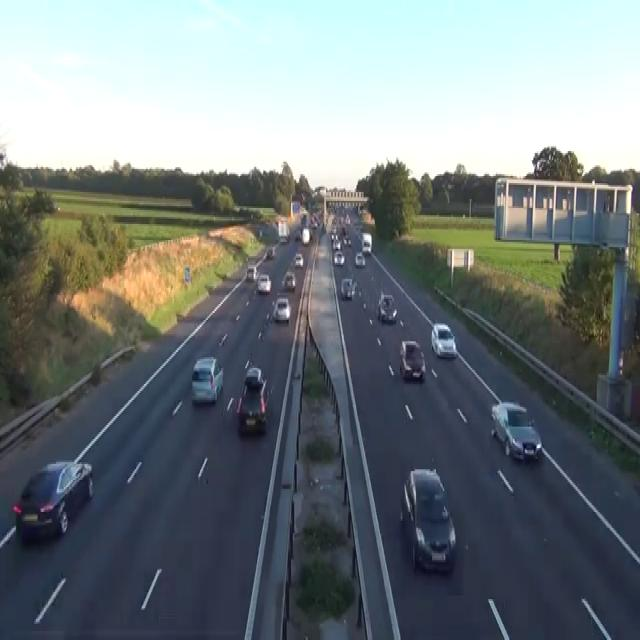Car: (12, 459, 94, 544), (400, 468, 456, 574), (490, 400, 542, 462), (236, 377, 268, 434), (191, 356, 223, 404), (399, 340, 425, 380), (430, 322, 457, 357), (377, 292, 397, 322), (272, 297, 291, 323), (245, 366, 263, 389), (340, 277, 357, 299), (257, 272, 271, 293), (282, 270, 296, 290), (245, 265, 257, 281), (354, 250, 365, 266), (301, 228, 311, 244), (333, 251, 344, 265), (218, 332, 228, 347), (294, 250, 303, 266), (310, 215, 319, 228), (244, 357, 253, 370), (266, 245, 274, 258), (330, 229, 338, 242), (258, 226, 268, 236), (332, 238, 341, 249), (354, 221, 363, 231), (294, 228, 301, 240), (279, 234, 288, 243), (343, 235, 351, 245), (258, 228, 263, 236)
Truck: (277, 218, 289, 244), (361, 233, 372, 252)
